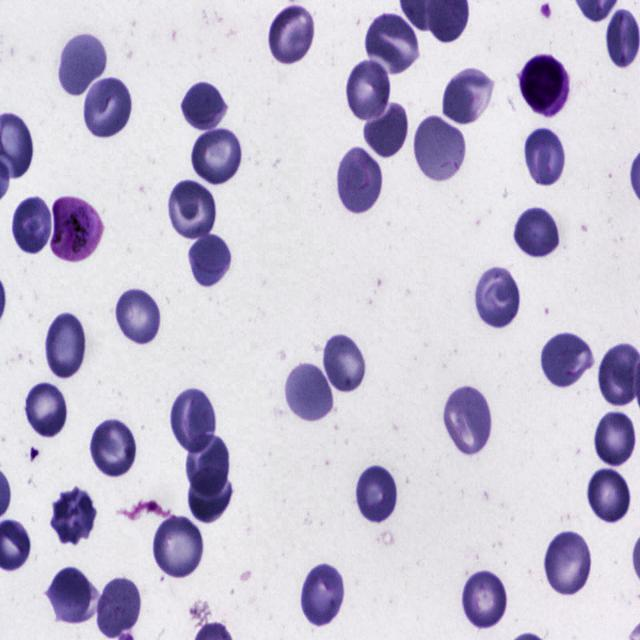difficult: (49, 194, 106, 264)
leukocyte: (517, 52, 573, 117)
red blood cell: (444, 382, 494, 458), (413, 117, 467, 183), (336, 147, 386, 218), (57, 30, 108, 99), (364, 12, 421, 73), (543, 528, 593, 597), (164, 178, 216, 242), (82, 76, 134, 139), (284, 360, 336, 423), (460, 567, 511, 631), (439, 66, 495, 124), (539, 329, 594, 388), (46, 566, 99, 627), (190, 128, 244, 187), (153, 516, 204, 578), (300, 560, 347, 627), (93, 576, 142, 640), (266, 2, 316, 64), (89, 418, 138, 480), (44, 312, 88, 381), (345, 57, 391, 123), (170, 389, 217, 453), (114, 285, 164, 345), (592, 406, 640, 468), (321, 331, 368, 394), (185, 433, 229, 498), (476, 266, 521, 329), (49, 488, 99, 544), (522, 126, 567, 188), (23, 380, 68, 441), (187, 468, 236, 524), (356, 464, 399, 525), (182, 79, 230, 133), (513, 206, 561, 260), (364, 101, 408, 159), (587, 466, 631, 524), (9, 195, 52, 254), (188, 234, 232, 289), (605, 8, 640, 67)
